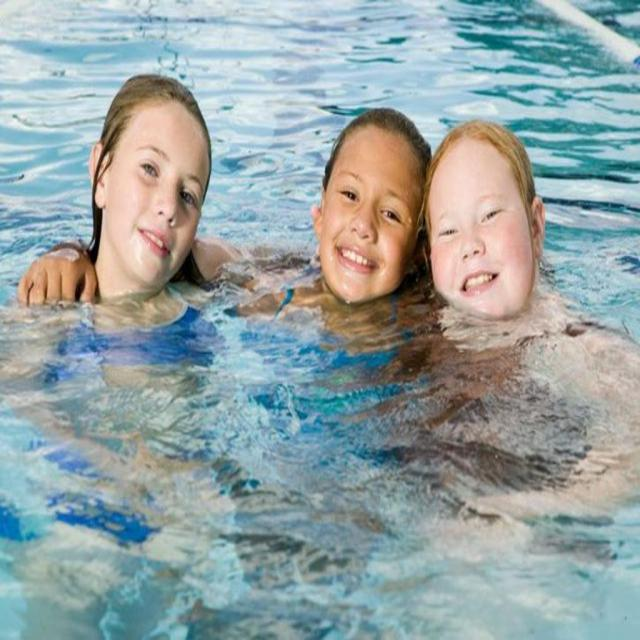nomask: (434, 164, 525, 320), (326, 143, 415, 301), (115, 128, 205, 282)
